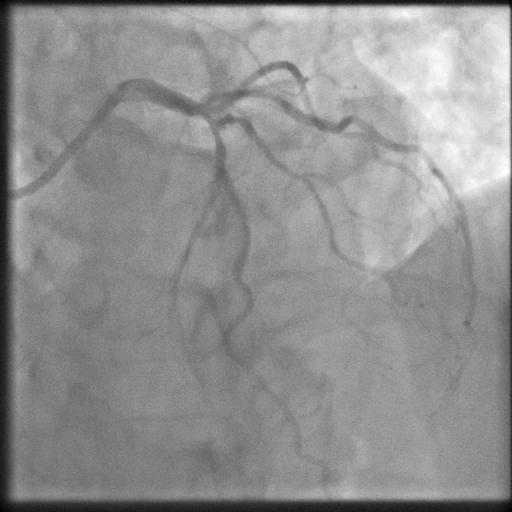Stenosis: (196, 108, 225, 149)
